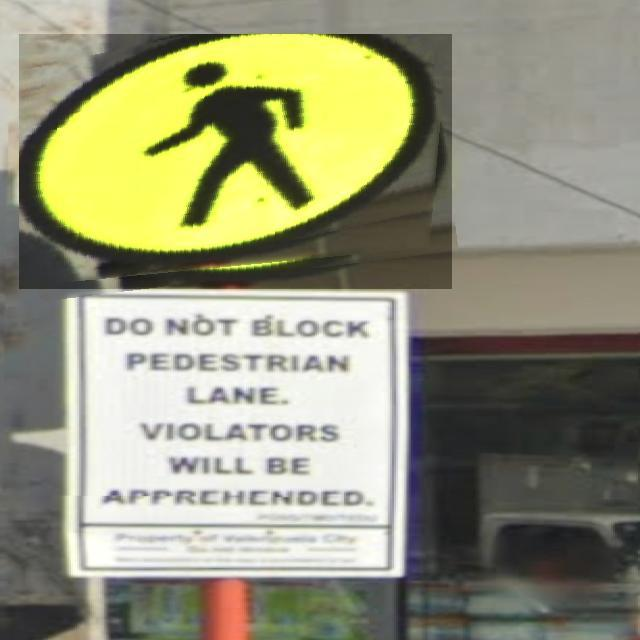pedestrian crossing: (19, 34, 452, 289)
